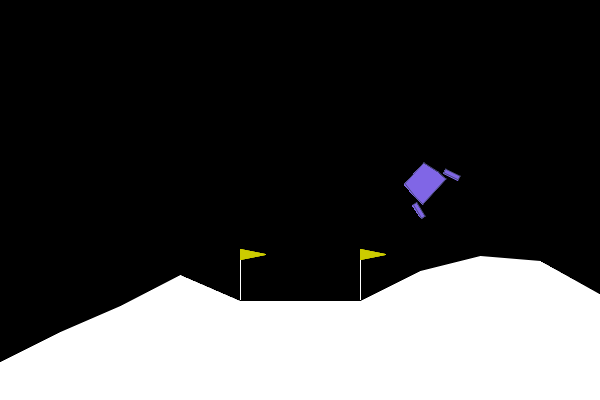lander: (392, 150, 462, 221)
